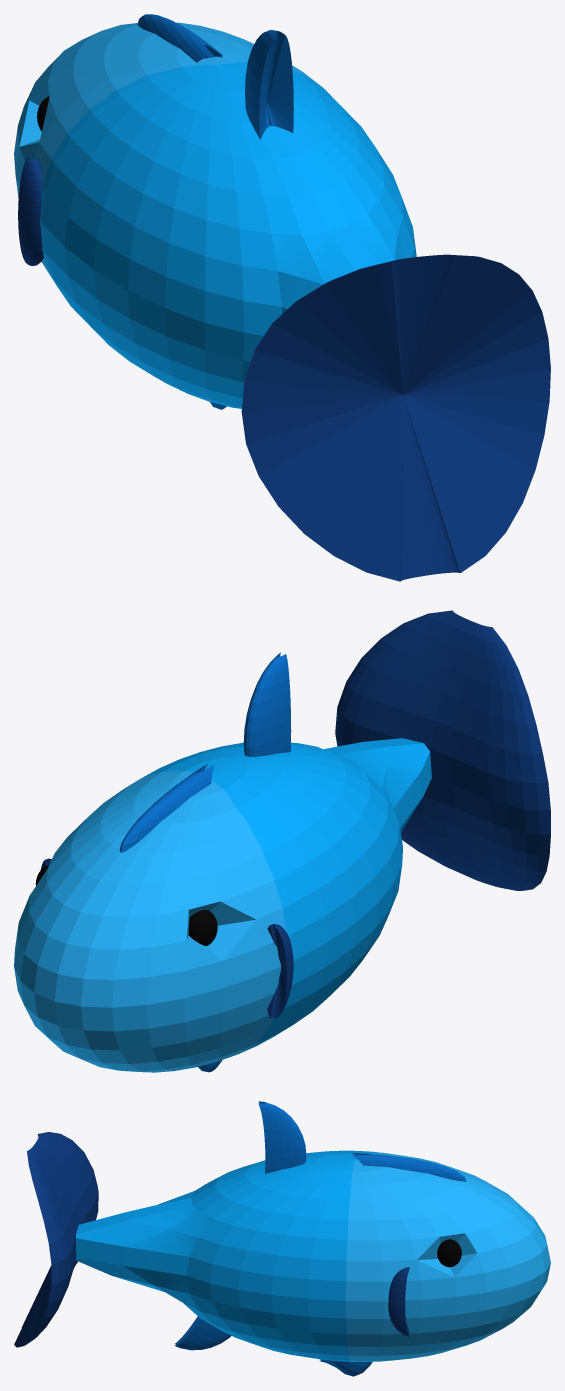
The model's file is honMaguro.obj.
3 renders of one model, top to bottom at view 1: azimuth 30°, elevation 25°; view 2: azimuth 150°, elevation 25°; view 3: azimuth 270°, elevation 25°, orthographic. The views are drawn at different scales.
Visible parts, largest first — view 1: 球.002, 球.001, 球.004, 球.007, 球.005; view 2: 球.002, 球.001, 球.004, 球.005, 球.007, 球; view 3: 球.002, 球.001, 球.004, 球.005, 球.008, 球.006, 球.003, 球.009.
Part boxes in pixels (x1=…): 球.002: x1=14, y1=22, x2=416, y2=408; 球.001: x1=241, y1=254, x2=550, y2=581; 球.004: x1=245, y1=30, x2=293, y2=139; 球.007: x1=18, y1=156, x2=43, y2=265; 球.005: x1=137, y1=14, x2=222, y2=62; 球.002: x1=14, y1=738, x2=431, y2=1072; 球.001: x1=335, y1=610, x2=550, y2=890; 球.004: x1=243, y1=652, x2=291, y2=756; 球.005: x1=119, y1=764, x2=213, y2=852; 球.007: x1=267, y1=924, x2=293, y2=1019; 球: x1=188, y1=910, x2=217, y2=945; 球.002: x1=75, y1=1150, x2=550, y2=1361; 球.001: x1=14, y1=1132, x2=98, y2=1347; 球.004: x1=258, y1=1101, x2=306, y2=1173; 球.005: x1=351, y1=1153, x2=466, y2=1181; 球.008: x1=175, y1=1316, x2=231, y2=1350; 球.006: x1=388, y1=1267, x2=409, y2=1336; 球.003: x1=437, y1=1239, x2=461, y2=1267; 球.009: x1=319, y1=1359, x2=372, y2=1376.
Bounding box in the file's own units: 2.34 × 2.83 × 5.08.
1 material, 1 textured.
